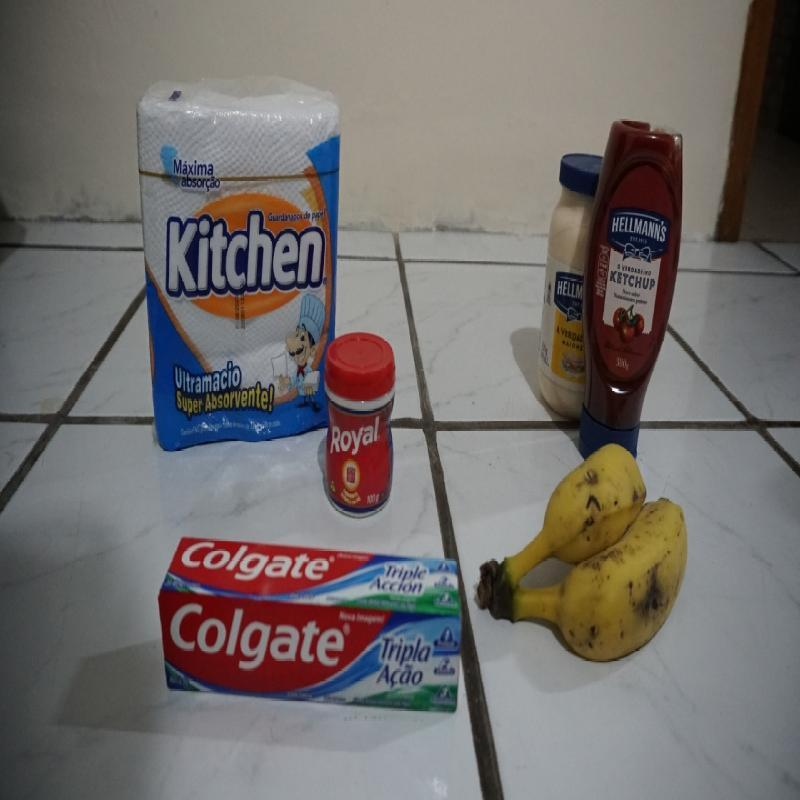Banana: (477, 442, 687, 665)
Ketchup: (578, 118, 684, 468)
Mayonnaise: (539, 151, 601, 421)
Napkin: (133, 77, 340, 453)
Toothpaste: (157, 536, 462, 716)
Yeast: (321, 329, 399, 521)
